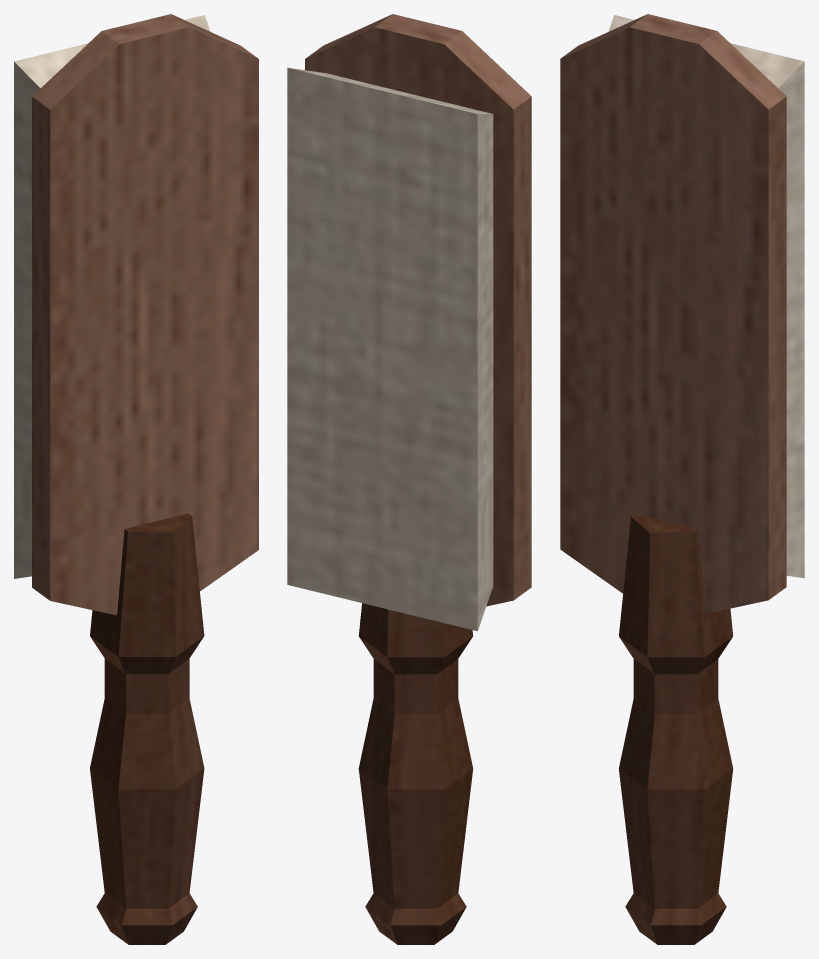
The model's file is BigBrush.fbx.
3 views of the same model, side by side, from view 1: azimuth 30°, elevation 25°; view 2: azimuth 150°, elevation 25°; view 3: azimuth 330°, elevation 25° (orthographic).
Parts seen in each view (by area): view 1: Cylinder.013; view 2: Cylinder.013; view 3: Cylinder.013.
Part boxes in pixels (x1,y1,x2,y2): Cylinder.013: [14, 14, 258, 944]; Cylinder.013: [287, 14, 531, 944]; Cylinder.013: [560, 14, 804, 944].
Size of the model in its own units: 20.12 by 83.22 by 10.73.
